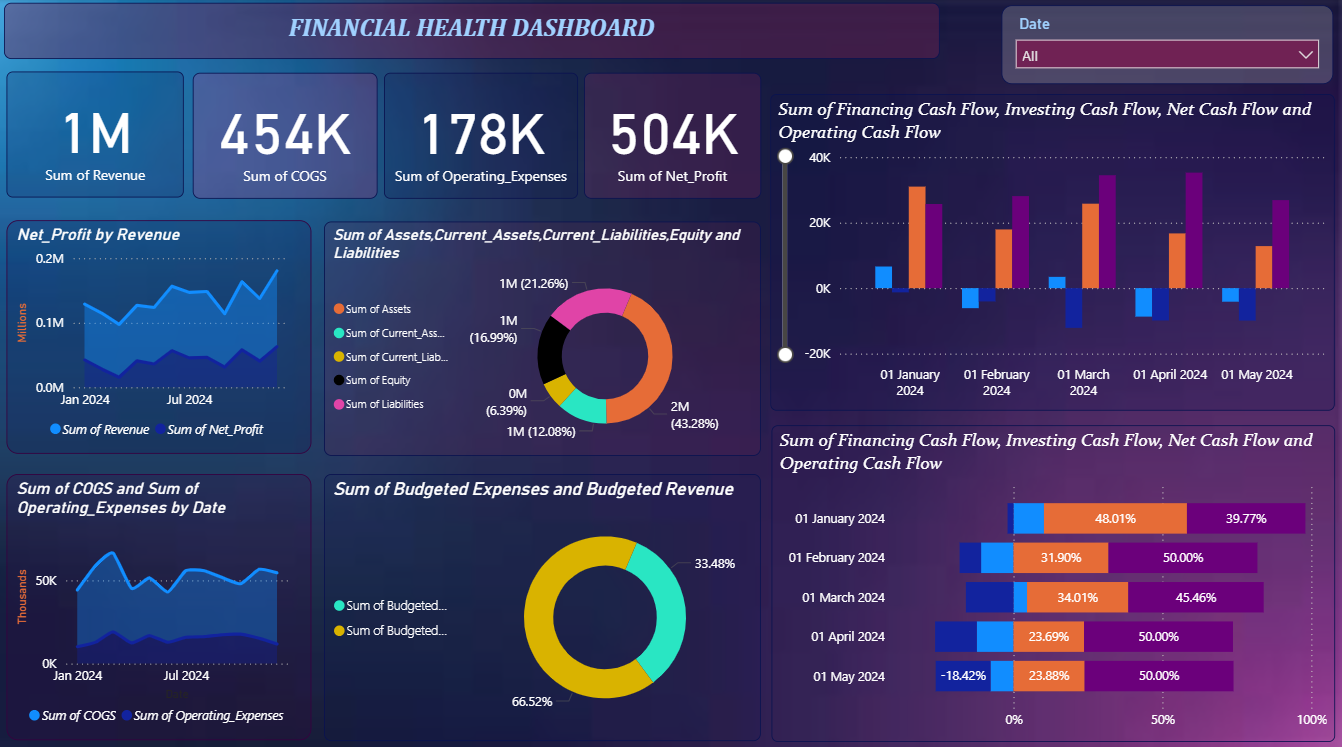

Layout of this report page (visuals, bound fields, positions):
{"tool":"powerbi","page":{"name":"Page 1","canvas":[1280,720],"ordinal":0},"visuals":[{"type":"textbox","box":[5,3.8,891.2,53.8],"z":0},{"type":"stackedAreaChart","title":"Net_Profit by Revenue","fields":{"Y":["Sum(Income_Statement.Revenue)","Sum(Income_Statement.Net_Profit)"],"Category":["Income_Statement.Date"]},"box":[7.5,211.2,290,222.5],"z":1000},{"type":"card","fields":{"Values":["Sum(Income_Statement.Revenue)"]},"box":[7.1,69,169,120.2],"z":2000},{"type":"stackedAreaChart","fields":{"Category":["Income_Statement.Date"],"Y":["Sum(Income_Statement.COGS)","Sum(Income_Statement.Operating_Expenses)"]},"box":[7.5,452.5,290,253.8],"z":3000},{"type":"card","fields":{"Values":["Sum(Income_Statement.COGS)"]},"box":[184.5,70.2,176.2,120.2],"z":4000},{"type":"card","fields":{"Values":["Sum(Income_Statement.Operating_Expenses)"]},"box":[366.7,70.2,184.5,120.2],"z":5000},{"type":"slicer","fields":{"Values":["Budget.Date Hierarchy.Date"]},"box":[955,6.2,316.2,75],"z":6000},{"type":"card","fields":{"Values":["Sum(Income_Statement.Net_Profit)"]},"box":[557.1,70.2,169,120.2],"z":7000},{"type":"donutChart","title":"Sum of Assets,Current_Assets,Current_Liabilities,Equity and Liabilities","fields":{"Y":["Sum(Balance_Sheet.Assets)","Sum(Balance_Sheet.Current_Assets)","Sum(Balance_Sheet.Current_Liabilities)","Sum(Balance_Sheet.Equity)","Sum(Balance_Sheet.Liabilities)"]},"box":[310,211.4,415.7,222.9],"z":8000},{"type":"donutChart","title":"Sum of Budgeted Expenses and Budgeted Revenue ","fields":{"Y":["Sum(Budget.Budgeted_Expenses)","Sum(Budget.Budgeted_Revenue)"]},"box":[310,452.9,415.7,254.3],"z":9000},{"type":"clusteredColumnChart","title":"Sum of Financing Cash Flow, Investing Cash Flow, Net Cash Flow and Operating Cash Flow","fields":{"Category":["Cash_Flow.Date"],"Y":["Sum(Cash_Flow.Financing_Cash_Flow)","Sum(Cash_Flow.Investing_Cash_Flow)","Sum(Cash_Flow.Net_Cash_Flow)","Sum(Cash_Flow.Operating_Cash_Flow)"]},"box":[735,90,537.5,301.2],"z":10000},{"type":"hundredPercentStackedBarChart","title":"Sum of Financing Cash Flow, Investing Cash Flow, Net Cash Flow and Operating Cash Flow","fields":{"Category":["Cash_Flow.Date"],"Y":["Sum(Cash_Flow.Financing_Cash_Flow)","Sum(Cash_Flow.Investing_Cash_Flow)","Sum(Cash_Flow.Net_Cash_Flow)","Sum(Cash_Flow.Operating_Cash_Flow)"]},"box":[735.7,405.7,537.1,301.4],"z":11000}]}

Visuals, with their boxes in screenshot pixels (x1, y1, x2, y2), scaled from the page's 1280x720 canvas onto the 1342x747 screenshot:
textbox: {"x1": 5, "y1": 4, "x2": 940, "y2": 60}
"Net_Profit by Revenue" stackedAreaChart: {"x1": 8, "y1": 219, "x2": 312, "y2": 450}
card - Sum(Income_Statement.Revenue): {"x1": 7, "y1": 72, "x2": 185, "y2": 196}
stackedAreaChart - Income_Statement.Date x Sum(Income_Statement.COGS): {"x1": 8, "y1": 469, "x2": 312, "y2": 733}
card - Sum(Income_Statement.COGS): {"x1": 193, "y1": 73, "x2": 378, "y2": 198}
card - Sum(Income_Statement.Operating_Expenses): {"x1": 384, "y1": 73, "x2": 578, "y2": 198}
slicer - Budget.Date Hierarchy.Date: {"x1": 1001, "y1": 6, "x2": 1333, "y2": 84}
card - Sum(Income_Statement.Net_Profit): {"x1": 584, "y1": 73, "x2": 761, "y2": 198}
"Sum of Assets,Current_Assets,Current_Liabilities,Equity and Liabilities" donutChart: {"x1": 325, "y1": 219, "x2": 761, "y2": 451}
"Sum of Budgeted Expenses and Budgeted Revenue " donutChart: {"x1": 325, "y1": 470, "x2": 761, "y2": 734}
"Sum of Financing Cash Flow, Investing Cash Flow, Net Cash Flow and Operating Cash Flow" clusteredColumnChart: {"x1": 771, "y1": 93, "x2": 1334, "y2": 406}
"Sum of Financing Cash Flow, Investing Cash Flow, Net Cash Flow and Operating Cash Flow" hundredPercentStackedBarChart: {"x1": 771, "y1": 421, "x2": 1334, "y2": 734}
